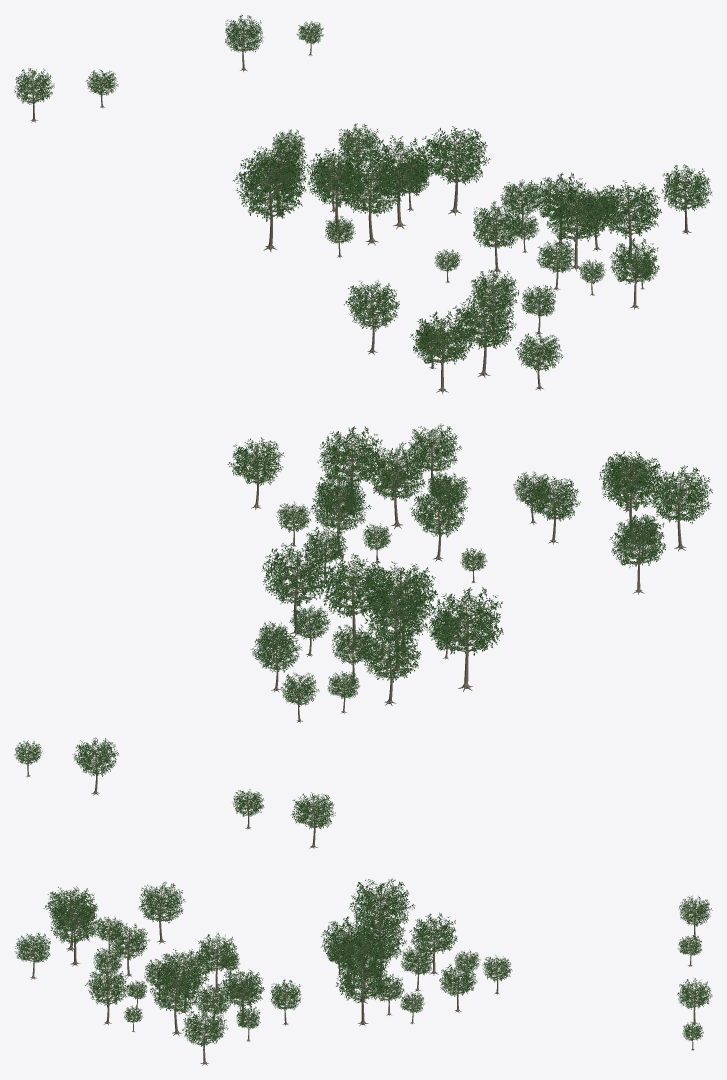
Rendered from expansion-trees-west.glb.
The picture shows the model from 3 angles, top to bottom: view 1: azimuth 30°, elevation 25°; view 2: azimuth 150°, elevation 25°; view 3: azimuth 270°, elevation 25°; orthographic projection. The views are drawn at different scales.
Visible parts, largest first — view 1: Expansion_GardenTree_012, Expansion_GardenTree_014, Expansion_GardenTree_017, Expansion_GardenTree_023, Expansion_GardenTree_016, Expansion_GardenTree_078, Expansion_GardenTree_021, Expansion_GardenTree_076, Expansion_GardenTree_015, Expansion_GardenTree_082, Expansion_GardenTree_032, Expansion_GardenTree_029 (+15 smaller); view 2: Expansion_GardenTree_012, Expansion_GardenTree_017, Expansion_GardenTree_016, Expansion_GardenTree_076, Expansion_GardenTree_015, Expansion_GardenTree_078, Expansion_GardenTree_021, Expansion_GardenTree_023, Expansion_GardenTree_011, Expansion_GardenTree_014, Expansion_GardenTree_022, Expansion_GardenTree_082 (+17 smaller); view 3: Expansion_GardenTree_012, Expansion_GardenTree_017, Expansion_GardenTree_023, Expansion_GardenTree_078, Expansion_GardenTree_016, Expansion_GardenTree_082, Expansion_GardenTree_011, Expansion_GardenTree_021, Expansion_GardenTree_014, Expansion_GardenTree_015, Expansion_GardenTree_029, Expansion_GardenTree_022 (+22 smaller).
Part boxes in pixels (<box>): Expansion_GardenTree_012: <box>233,152,306,252</box>; Expansion_GardenTree_014: <box>337,155,407,245</box>; Expansion_GardenTree_017: <box>418,126,490,215</box>; Expansion_GardenTree_023: <box>597,180,661,262</box>; Expansion_GardenTree_016: <box>368,135,434,229</box>; Expansion_GardenTree_078: <box>451,295,516,377</box>; Expansion_GardenTree_021: <box>544,187,606,271</box>; Expansion_GardenTree_076: <box>410,311,473,394</box>; Expansion_GardenTree_015: <box>306,148,368,235</box>; Expansion_GardenTree_082: <box>344,280,399,354</box>; Expansion_GardenTree_032: <box>473,201,523,273</box>; Expansion_GardenTree_029: <box>661,164,712,234</box>; Expansion_GardenTree_012: <box>426,587,503,691</box>; Expansion_GardenTree_017: <box>261,542,331,636</box>; Expansion_GardenTree_016: <box>321,553,389,648</box>; Expansion_GardenTree_076: <box>648,465,712,551</box>; Expansion_GardenTree_015: <box>365,583,430,672</box>; Expansion_GardenTree_078: <box>599,451,665,536</box>; Expansion_GardenTree_021: <box>366,442,428,528</box>; Expansion_GardenTree_023: <box>317,426,382,513</box>; Expansion_GardenTree_011: <box>357,629,421,705</box>; Expansion_GardenTree_014: <box>366,561,437,651</box>; Expansion_GardenTree_022: <box>310,481,371,555</box>; Expansion_GardenTree_082: <box>609,514,665,594</box>; Expansion_GardenTree_012: <box>349,878,415,955</box>; Expansion_GardenTree_017: <box>336,953,391,1026</box>; Expansion_GardenTree_023: <box>150,967,205,1035</box>; Expansion_GardenTree_078: <box>50,898,101,966</box>; Expansion_GardenTree_016: <box>332,929,391,1003</box>; Expansion_GardenTree_082: <box>138,882,185,943</box>; Expansion_GardenTree_011: <box>409,912,457,975</box>; Expansion_GardenTree_021: <box>156,949,210,1014</box>; Expansion_GardenTree_014: <box>320,916,373,989</box>; Expansion_GardenTree_015: <box>351,914,406,983</box>; Expansion_GardenTree_029: <box>182,1008,228,1065</box>; Expansion_GardenTree_022: <box>220,967,264,1026</box>.
Size of the model in its own units: 29.98 by 7.15 by 56.34.
Materials: 3 (3 with a texture image).
